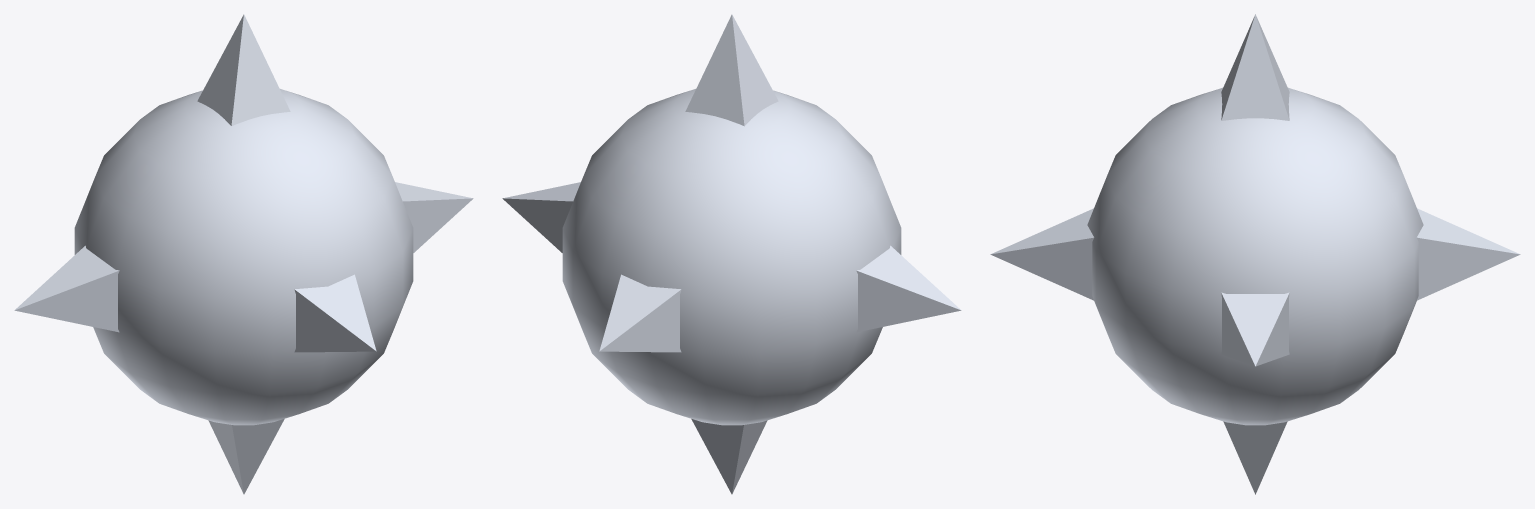
The model's file is Spike D.fbx.
3 views of the same model, side by side, from view 1: azimuth 30°, elevation 25°; view 2: azimuth 150°, elevation 25°; view 3: azimuth 270°, elevation 25° (orthographic).
Visible parts, largest first — view 1: Spike D; view 2: Spike D; view 3: Spike D.
Part boxes in pixels (x1,y1,x2,y2): Spike D: (14, 14, 473, 494); Spike D: (502, 14, 961, 494); Spike D: (990, 14, 1520, 494).
Bounding box in the file's own units: 128 × 128 × 128.
